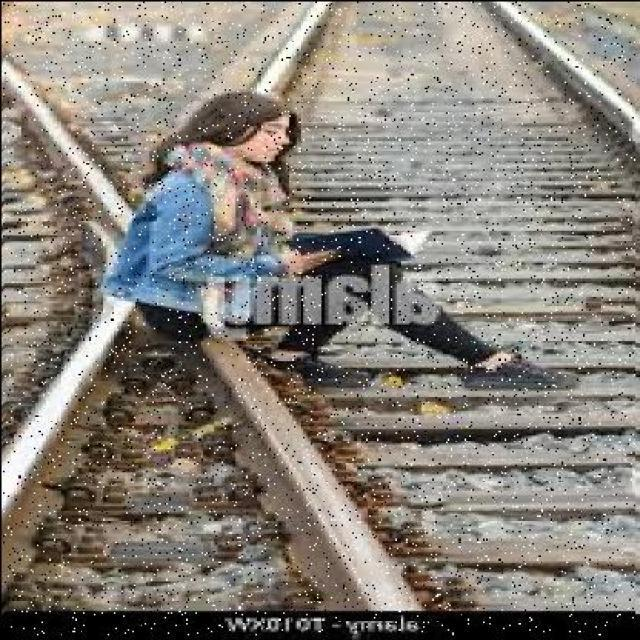danger: (68, 88, 584, 397)
rail: (2, 1, 633, 634)
